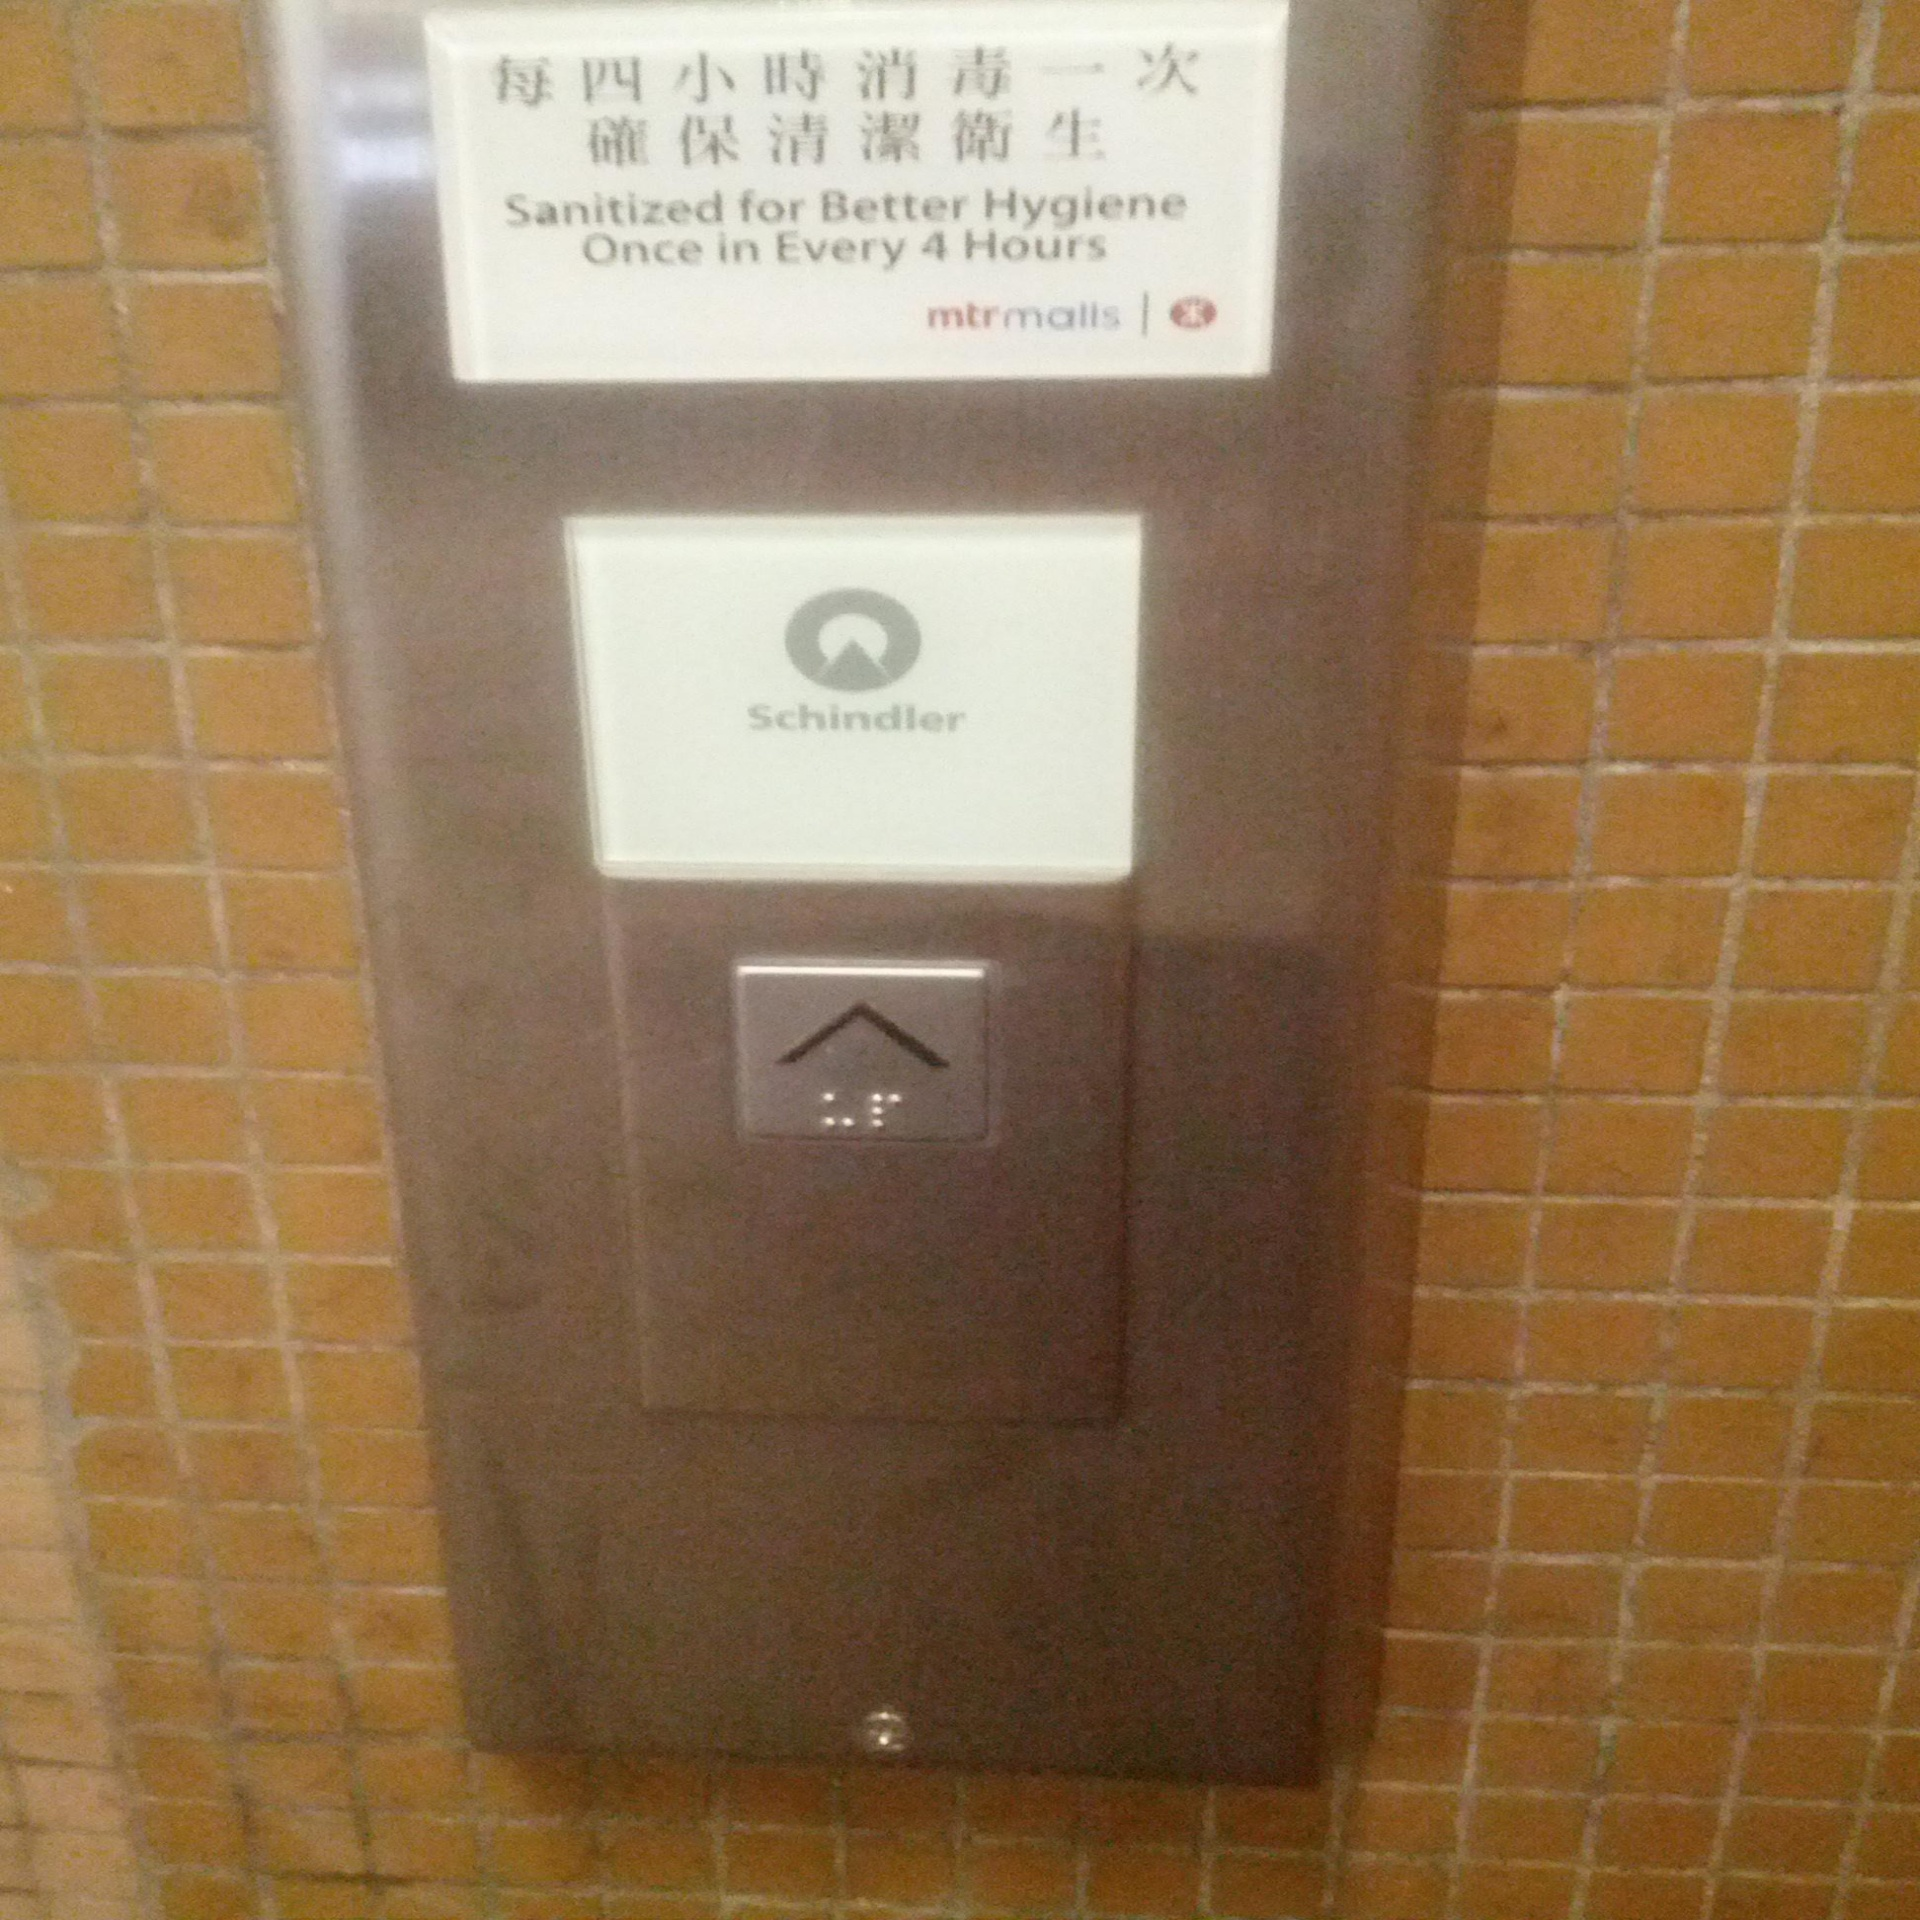up: (731, 962, 990, 1145)
